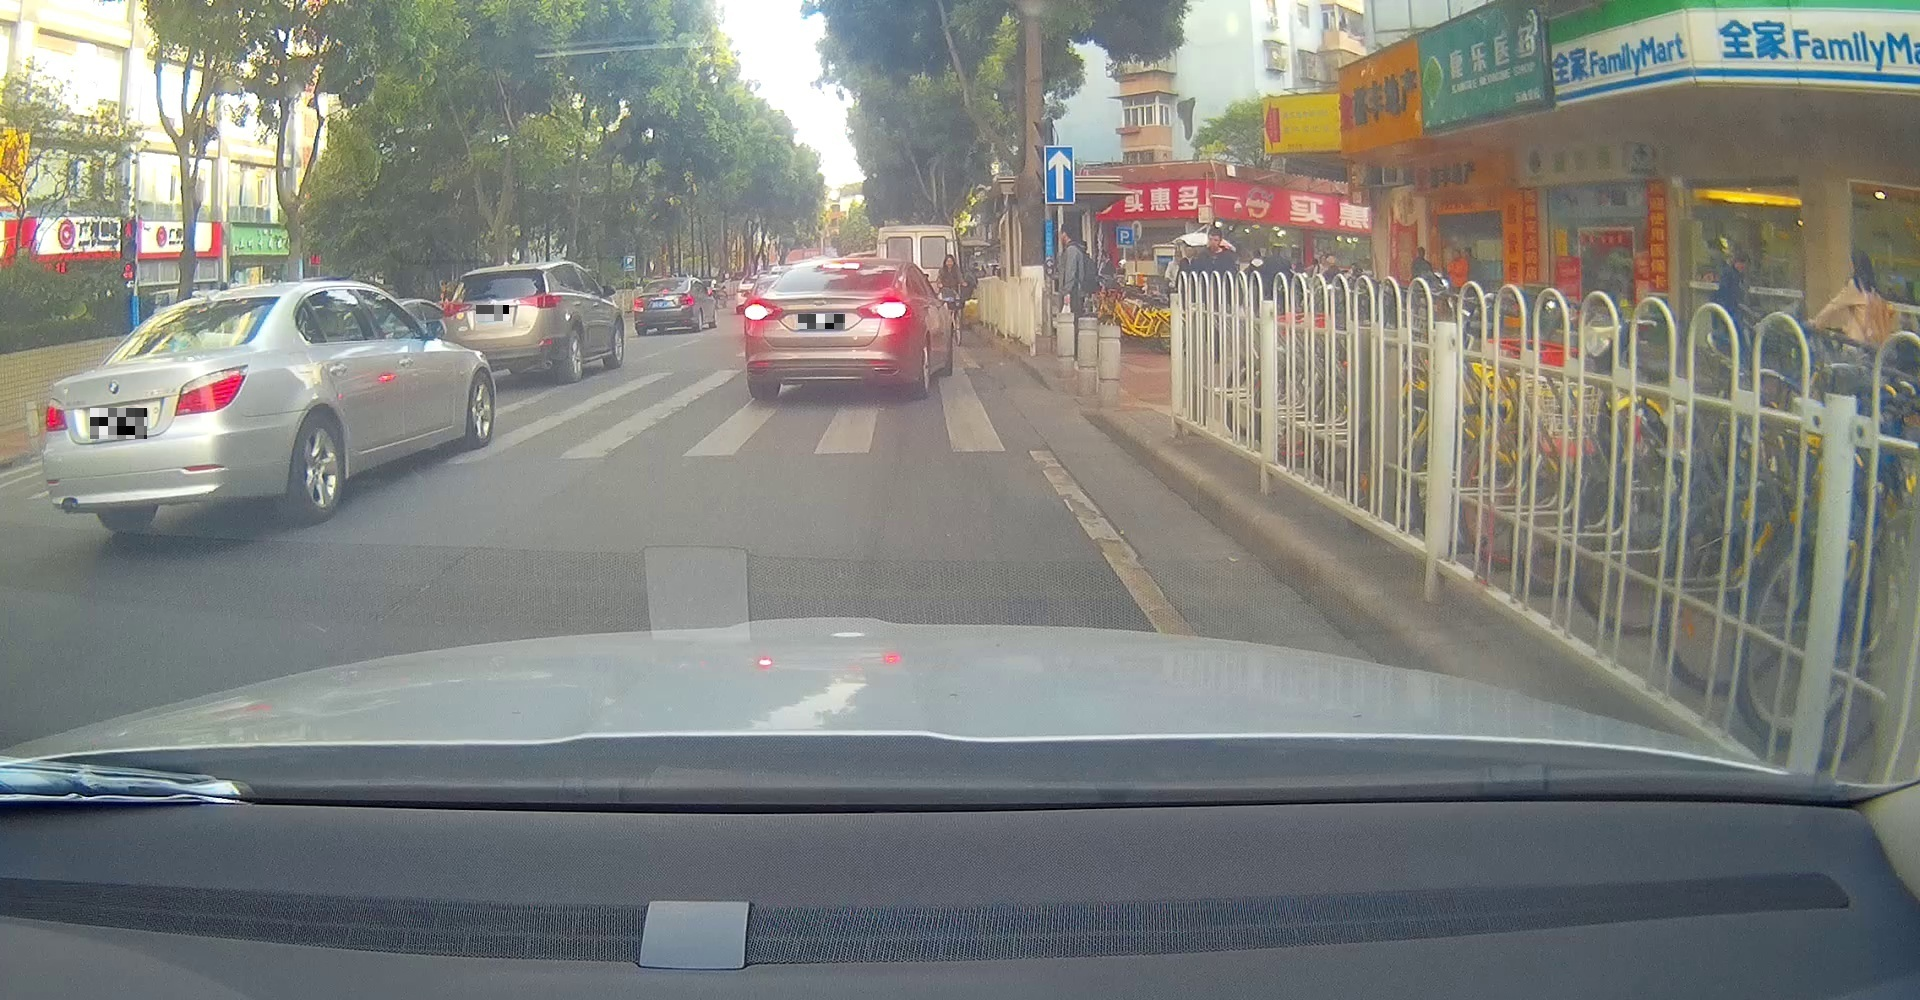L_light: (44, 396, 69, 431), (744, 299, 783, 320), (441, 299, 472, 317), (634, 297, 645, 307)
R_light: (173, 363, 250, 416), (855, 296, 909, 319), (513, 292, 563, 308), (679, 294, 695, 305)
T_light: (823, 261, 860, 270), (196, 305, 222, 311), (497, 272, 510, 275), (662, 288, 670, 293)
day-brake: (742, 258, 912, 398), (632, 275, 697, 334)
day-no: (41, 286, 290, 532), (437, 263, 570, 382)
plate_1: (90, 409, 147, 439)
plate_2: (476, 305, 509, 321)
plate_3: (797, 313, 844, 329)
